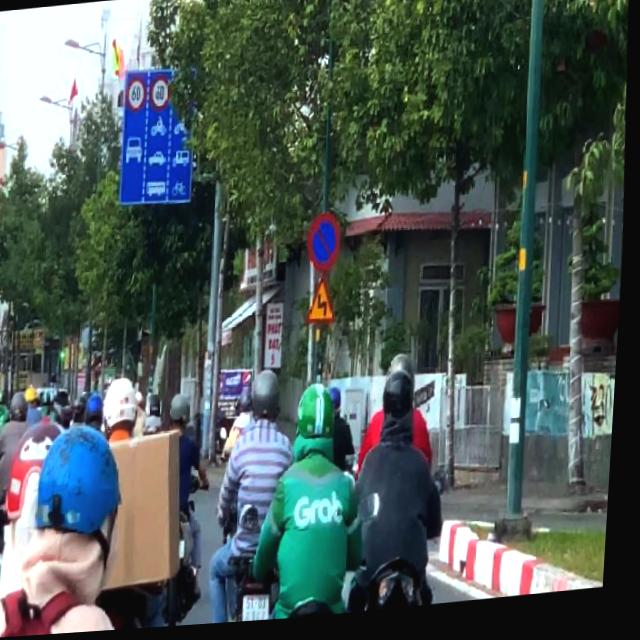Cam do xe: (309, 216, 345, 278)
Nhieu cho ngoat lien tiep ben trai: (307, 279, 342, 331)
Toc do toi da cho phep: (149, 76, 173, 113), (125, 76, 149, 113)
